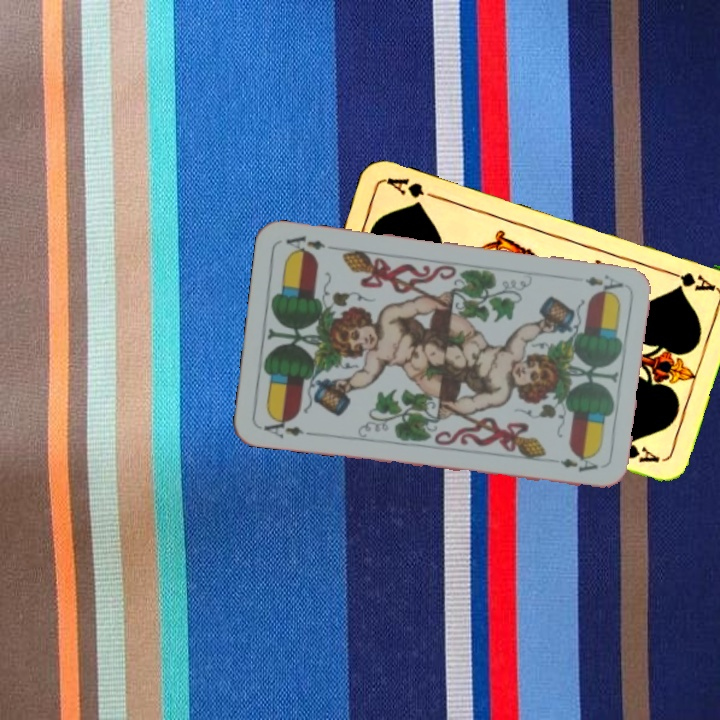EA: (259, 413, 306, 441), (581, 271, 626, 294)
GA: (659, 265, 717, 294)
